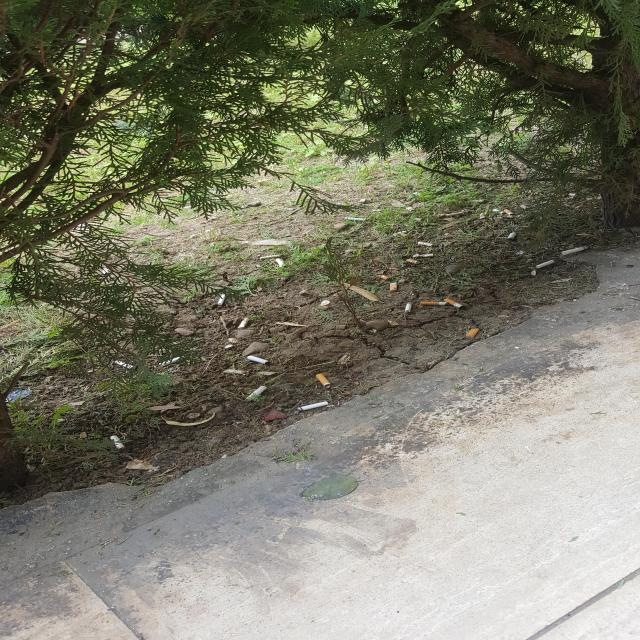litter: (205, 236, 607, 425)
